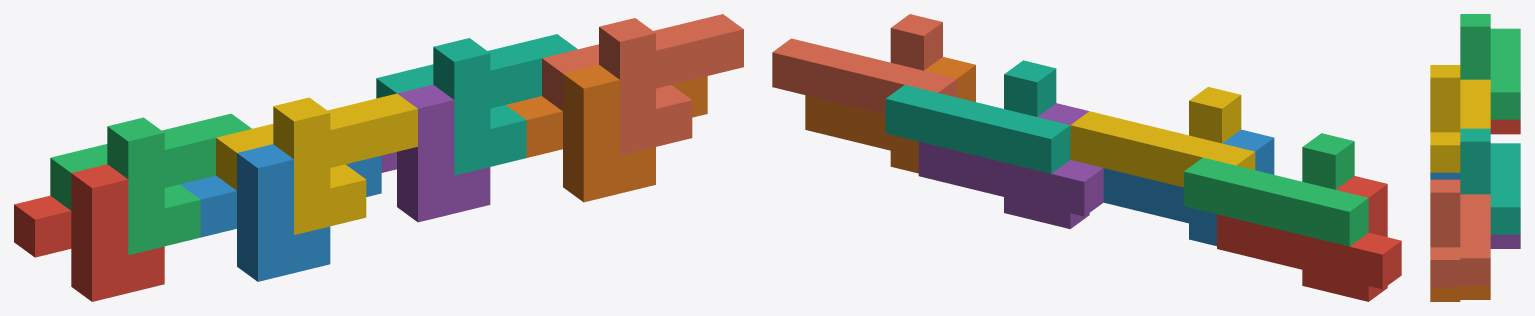
The model's file is tiling.obj.
3 renders of one model, left to right at view 1: azimuth 30°, elevation 25°; view 2: azimuth 150°, elevation 25°; view 3: azimuth 270°, elevation 25°, orthographic. The views are drawn at different scales.
Parts seen in each view (by area): view 1: copy_1_domain_4, copy_1_domain_8, copy_1_domain_3, copy_1_domain_7, copy_1_domain_1, copy_1_domain_2, copy_1_domain_6, copy_1_domain_5; view 2: copy_1_domain_7, copy_1_domain_3, copy_1_domain_4, copy_1_domain_8, copy_1_domain_1, copy_1_domain_5, copy_1_domain_2, copy_1_domain_6; view 3: copy_1_domain_8, copy_1_domain_7, copy_1_domain_4, copy_1_domain_3, copy_1_domain_6, copy_1_domain_1, copy_1_domain_5, copy_1_domain_2.
Part boxes in pixels (x1,y1,x2,y2): copy_1_domain_4: (216, 93, 417, 234); copy_1_domain_8: (542, 14, 743, 155); copy_1_domain_3: (50, 113, 251, 254); copy_1_domain_7: (376, 34, 577, 175); copy_1_domain_1: (14, 164, 164, 301); copy_1_domain_2: (180, 144, 381, 281); copy_1_domain_6: (506, 64, 707, 202); copy_1_domain_5: (381, 84, 490, 222); copy_1_domain_7: (885, 60, 1070, 173); copy_1_domain_3: (1184, 133, 1368, 246); copy_1_domain_4: (1070, 87, 1255, 187); copy_1_domain_8: (772, 14, 956, 114); copy_1_domain_1: (1217, 176, 1401, 301); copy_1_domain_5: (918, 103, 1103, 229); copy_1_domain_2: (1103, 129, 1274, 246); copy_1_domain_6: (805, 57, 975, 173); copy_1_domain_8: (1430, 179, 1490, 287); copy_1_domain_7: (1460, 128, 1520, 234); copy_1_domain_4: (1430, 65, 1490, 172); copy_1_domain_3: (1460, 14, 1520, 119); copy_1_domain_6: (1430, 285, 1490, 301); copy_1_domain_1: (1490, 119, 1520, 134); copy_1_domain_5: (1490, 234, 1520, 248); copy_1_domain_2: (1430, 172, 1460, 179).
Size of the model in its own units: 19 by 4 by 3.
